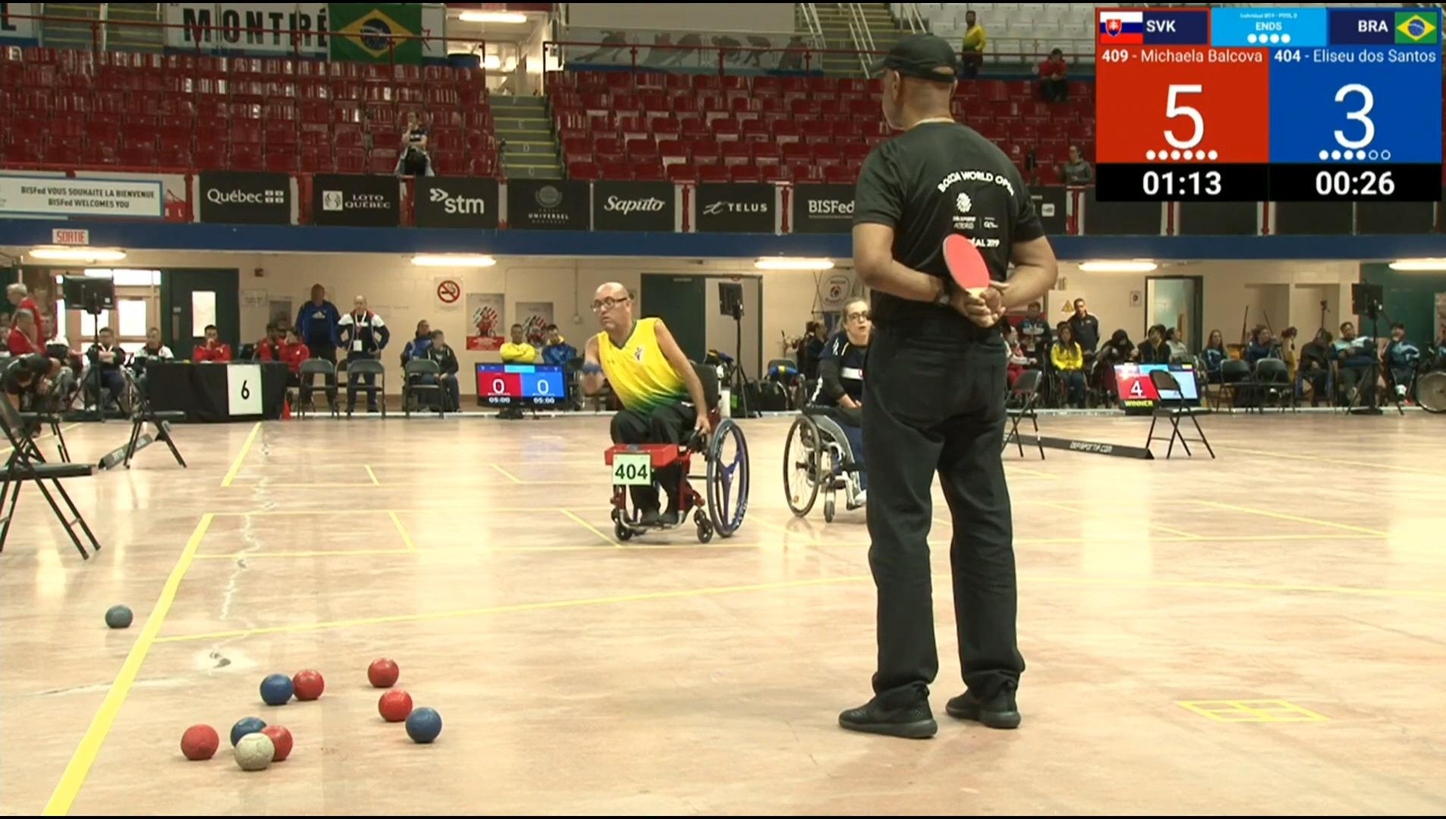blue_ball: (406, 705, 444, 745), (258, 673, 295, 707)
red_ball: (179, 722, 221, 763), (292, 669, 326, 703), (379, 689, 412, 724), (368, 657, 399, 689)
white_ball: (237, 733, 273, 771)
